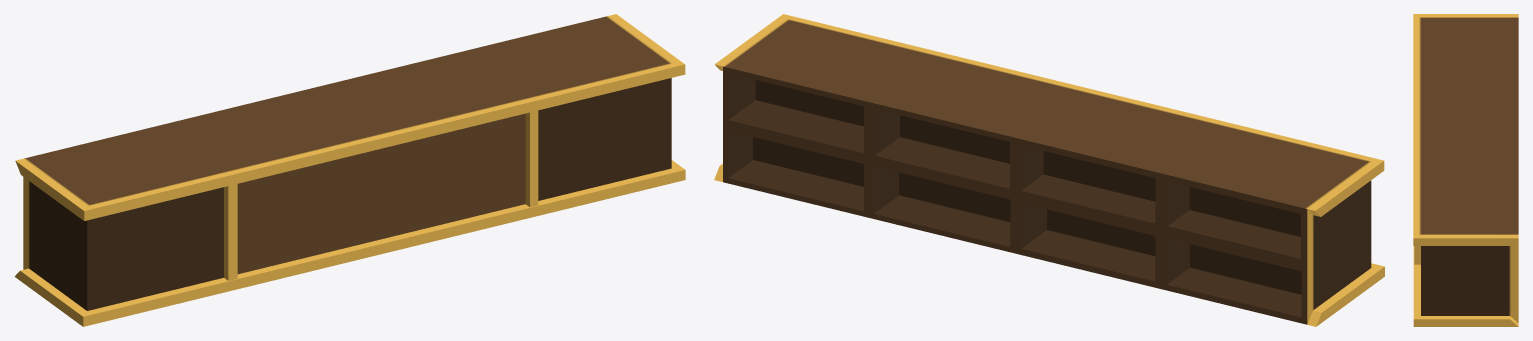
Rendered from counter.gltf.
3 views of the same model, side by side, from view 1: azimuth 30°, elevation 25°; view 2: azimuth 150°, elevation 25°; view 3: azimuth 270°, elevation 25° (orthographic). The views are drawn at different scales.
Visible parts, largest first — view 1: Cube; view 2: Cube; view 3: Cube.
Part boxes in pixels (x1,y1,x2,y2): Cube: [14, 14, 685, 326]; Cube: [714, 14, 1384, 326]; Cube: [1413, 14, 1518, 326].
Size of the model in its own units: 10.89 by 2 by 2.16.
Materials: 1 (1 with a texture image).
